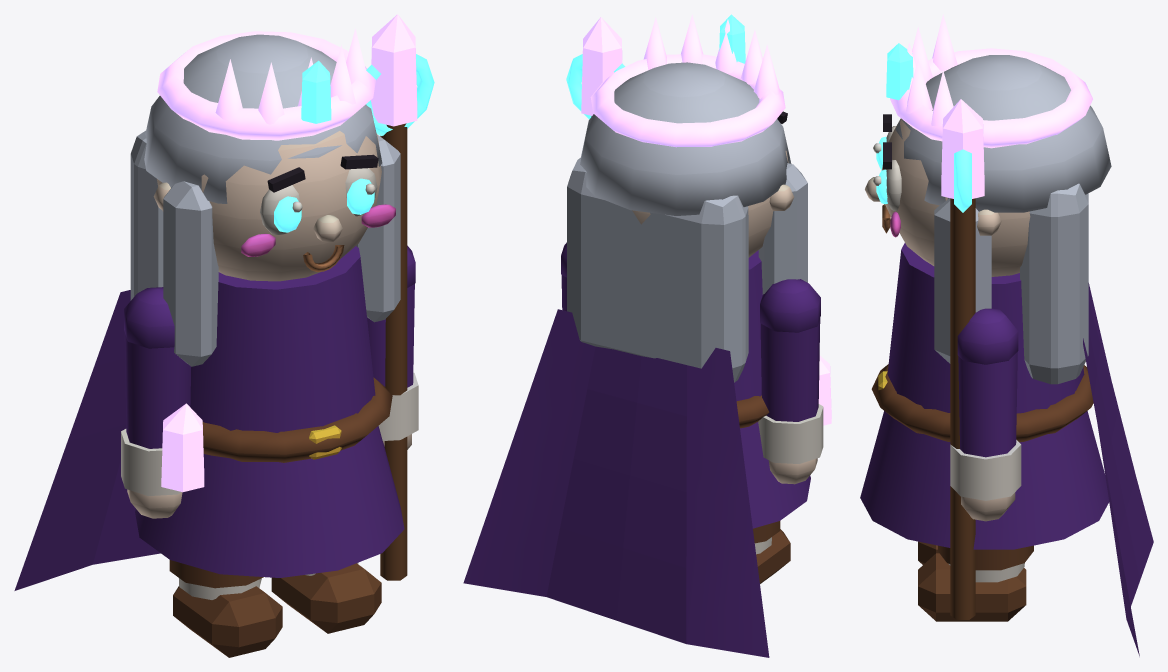
Rendered from hero_luma.glb.
The picture shows the model from 3 angles, left to right: view 1: azimuth 30°, elevation 25°; view 2: azimuth 150°, elevation 25°; view 3: azimuth 270°, elevation 25°; orthographic projection. The views are drawn at different scales.
Visible parts, largest first — view 1: body_t0_palette, arml_t0_palette, body_t0_crystal_violet, armr_t0_palette, legl_t0_palette, legr_t0_palette, armr_t0_crystal_violet, arml_t0_crystal_violet, body_t0_crystal, armr_t0_crystal; view 2: body_t0_palette, arml_t0_palette, body_t0_crystal_violet, armr_t0_crystal_violet, legl_t0_palette, body_t0_crystal, arml_t0_crystal_violet, armr_t0_crystal; view 3: body_t0_palette, armr_t0_palette, body_t0_crystal_violet, legr_t0_palette, armr_t0_crystal_violet, body_t0_crystal, armr_t0_crystal.
Boxes of the visible parts, left/top/right/bottom form: body_t0_palette: left=14, top=34, right=404, bottom=590; arml_t0_palette: left=121, top=287, right=191, bottom=518; body_t0_crystal_violet: left=157, top=28, right=375, bottom=140; armr_t0_palette: left=367, top=123, right=418, bottom=580; legl_t0_palette: left=169, top=560, right=282, bottom=657; legr_t0_palette: left=271, top=562, right=381, bottom=633; armr_t0_crystal_violet: left=371, top=14, right=417, bottom=126; arml_t0_crystal_violet: left=161, top=403, right=204, bottom=492; body_t0_crystal: left=274, top=60, right=374, bottom=232; armr_t0_crystal: left=366, top=54, right=434, bottom=135; body_t0_palette: left=463, top=62, right=810, bottom=657; arml_t0_palette: left=758, top=279, right=823, bottom=484; body_t0_crystal_violet: left=590, top=14, right=785, bottom=147; armr_t0_crystal_violet: left=581, top=17, right=622, bottom=115; legl_t0_palette: left=753, top=521, right=790, bottom=583; body_t0_crystal: left=719, top=14, right=745, bottom=63; arml_t0_crystal_violet: left=818, top=355, right=831, bottom=425; armr_t0_crystal: left=566, top=54, right=625, bottom=119; body_t0_palette: left=860, top=55, right=1153, bottom=656; armr_t0_palette: left=950, top=198, right=1021, bottom=619; body_t0_crystal_violet: left=890, top=14, right=1092, bottom=148; legr_t0_palette: left=918, top=545, right=1033, bottom=621; armr_t0_crystal_violet: left=941, top=99, right=984, bottom=198; body_t0_crystal: left=876, top=43, right=913, bottom=204; armr_t0_crystal: left=954, top=149, right=971, bottom=212.
Bounding box in the file's own units: 0.32 × 0.53 × 0.257.
